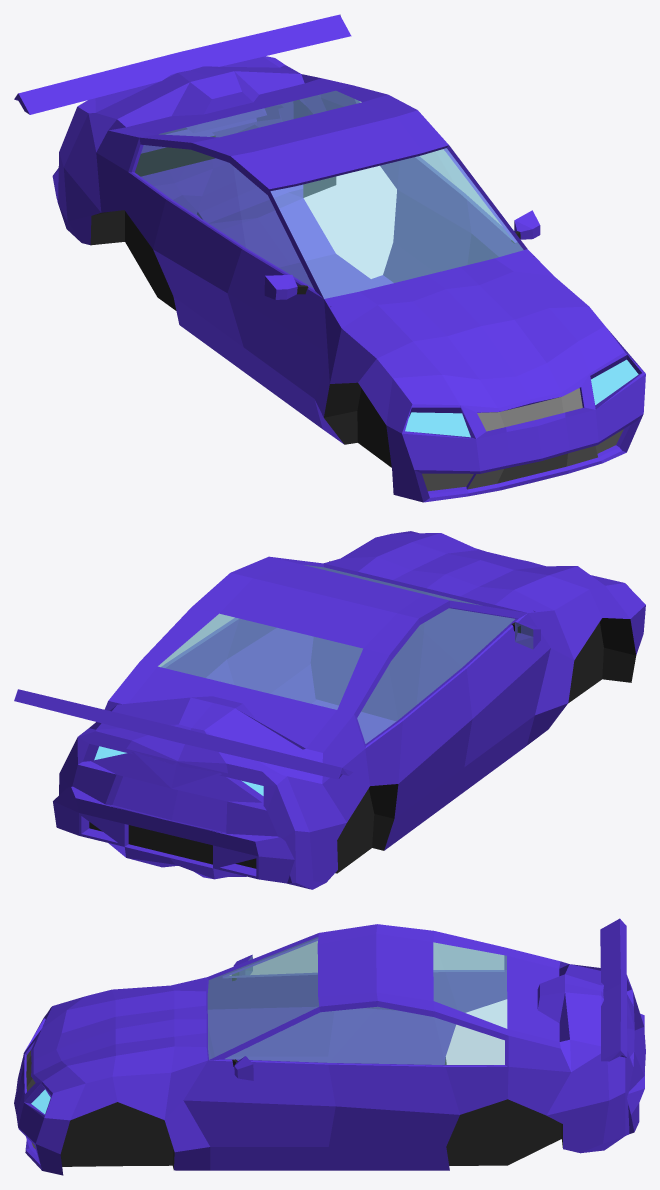
Rendered from car.glb.
The picture shows the model from 3 angles, top to bottom: view 1: azimuth 30°, elevation 25°; view 2: azimuth 150°, elevation 25°; view 3: azimuth 270°, elevation 25°; orthographic projection. The views are drawn at different scales.
Parts seen in each view (by area): view 1: Car; view 2: Car; view 3: Car.
Boxes of the visible parts, box(x1,y1,x2,y2) form: Car: box(14, 14, 645, 502); Car: box(14, 531, 645, 889); Car: box(14, 918, 645, 1175).
Size of the model in its own units: 2.12 by 1.26 by 4.29.
